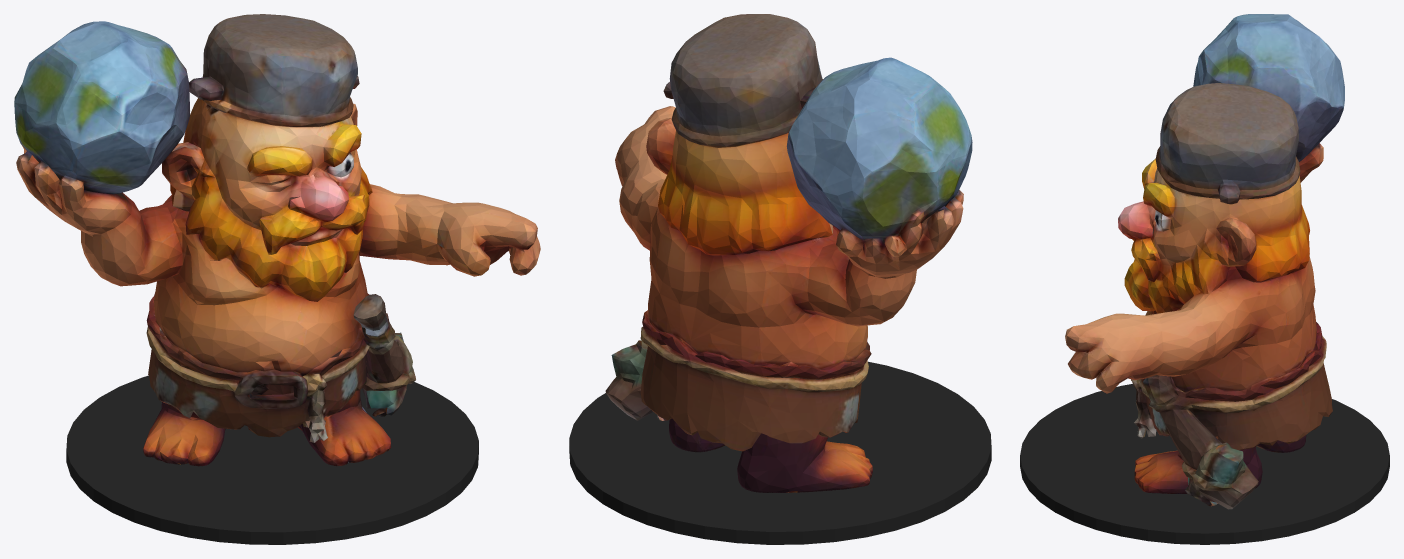
The model's file is sob-boulder-basher.glb.
3 renders of one model, left to right at view 1: azimuth 30°, elevation 25°; view 2: azimuth 150°, elevation 25°; view 3: azimuth 270°, elevation 25°, orthographic. The views are drawn at different scales.
Parts seen in each view (by area): view 1: figure, base; view 2: figure, base; view 3: figure, base.
Boxes of the visible parts, <box> form: figure: <box>14,14,540,466</box>; base: <box>66,375,478,544</box>; figure: <box>605,14,972,492</box>; base: <box>569,361,991,544</box>; figure: <box>1065,14,1344,509</box>; base: <box>1020,384,1389,544</box>.
Size of the model in its own units: 4.18 by 4.12 by 3.54.
Materials: 2 (1 with a texture image).
